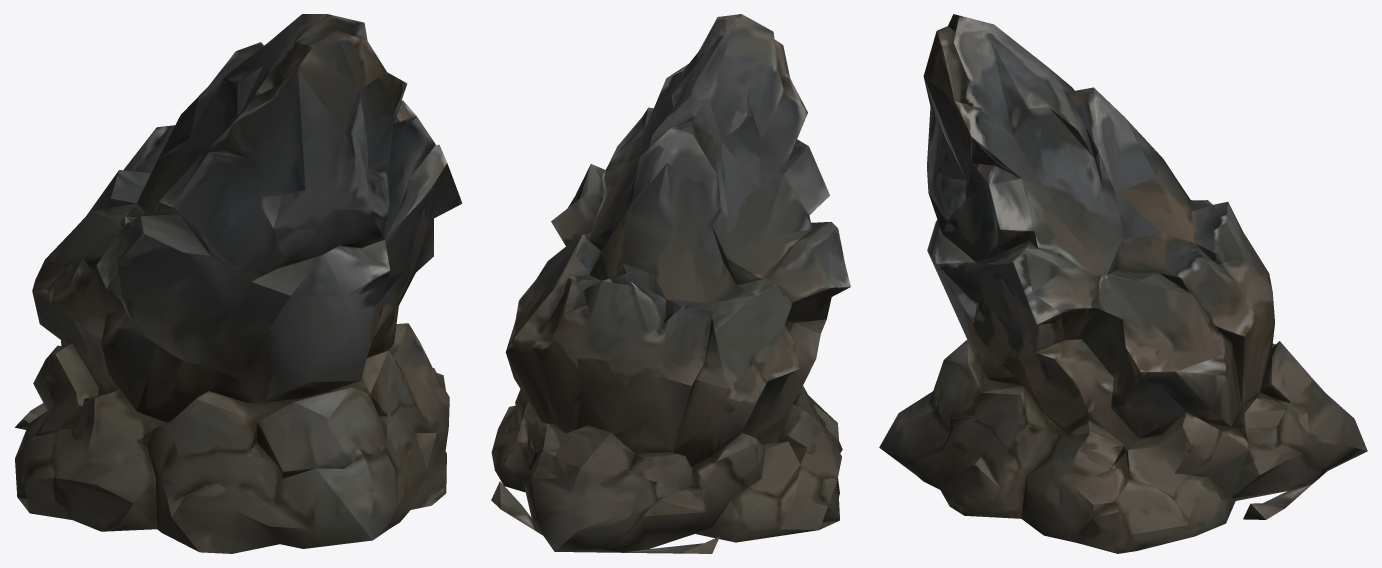
3 renders of one model, left to right at view 1: azimuth 30°, elevation 25°; view 2: azimuth 150°, elevation 25°; view 3: azimuth 270°, elevation 25°, orthographic. The views are drawn at different scales.
Visible parts, largest first — view 1: meteor_shard; view 2: meteor_shard; view 3: meteor_shard.
Part boxes in pixels (<box>): meteor_shard: <box>15,14,462,553</box>; meteor_shard: <box>491,14,850,553</box>; meteor_shard: <box>879,14,1367,553</box>.
Size of the model in its own units: 0.8333 by 0.9791 by 0.9627.
Materials: 1 (1 with a texture image).
